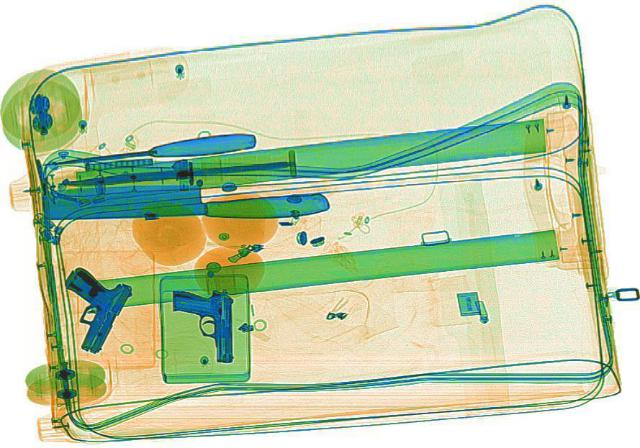Gun: (34, 263, 138, 352), (171, 288, 235, 361)
Knife: (41, 180, 329, 220), (40, 129, 256, 172), (59, 157, 294, 187)
